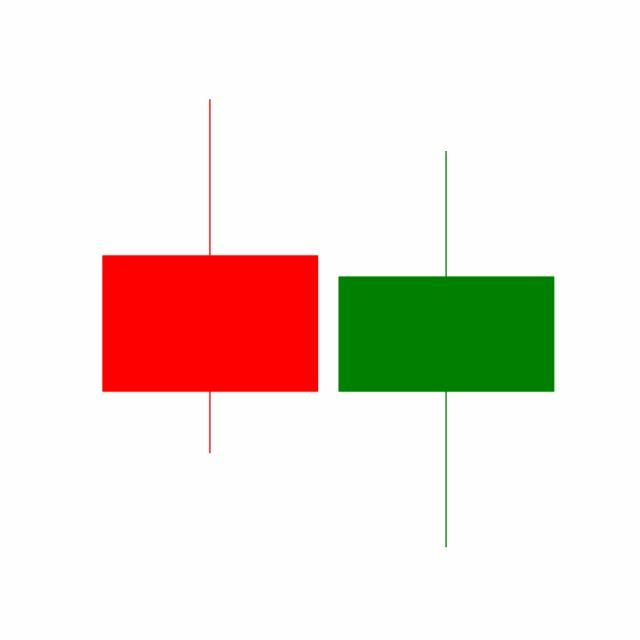Spinning Top: (328, 147, 566, 552)
